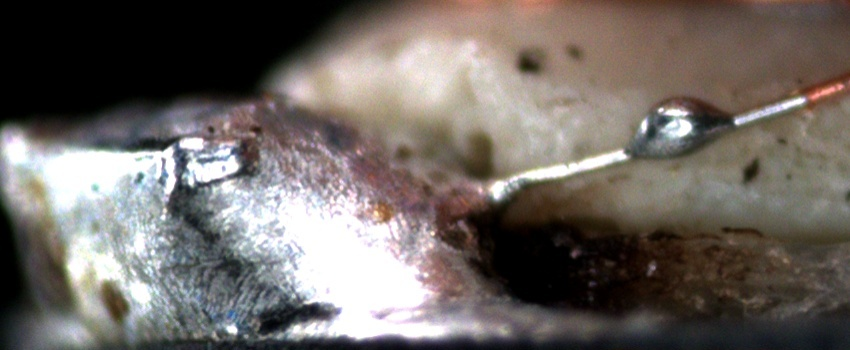TB: (630, 95, 732, 168)
TS: (510, 95, 809, 190)
TTCW: (484, 73, 846, 206)
